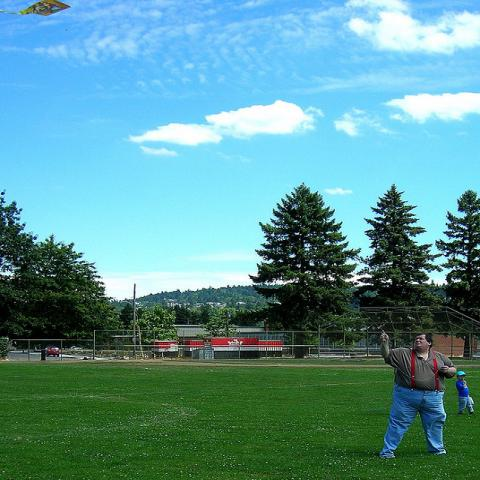car: (45, 346, 59, 357)
